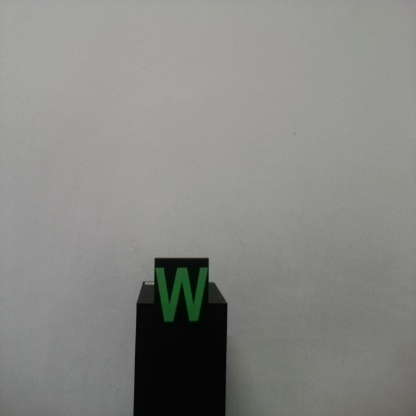id_12: (154, 257, 209, 338)
